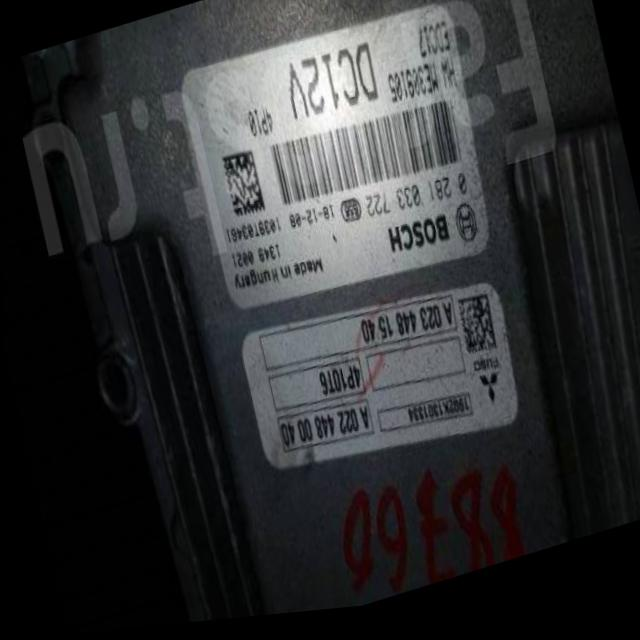datamatrix: (221, 153, 265, 225), (455, 301, 497, 367)
